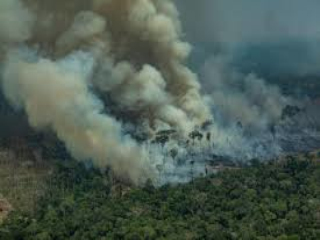smoke: (30, 29, 228, 180)
